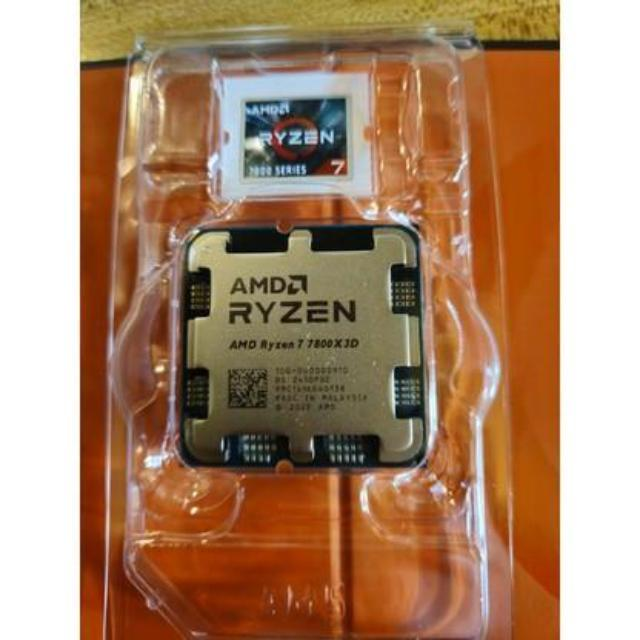CPU: (186, 232, 426, 462)
